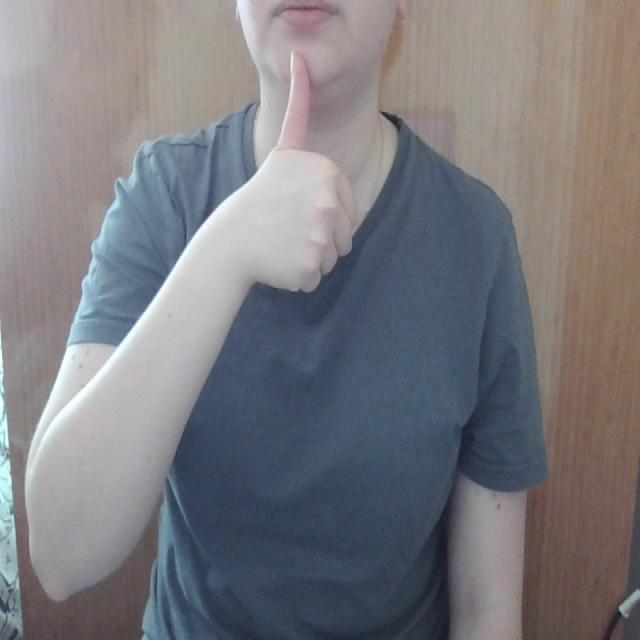Baba: (255, 0, 350, 145)
